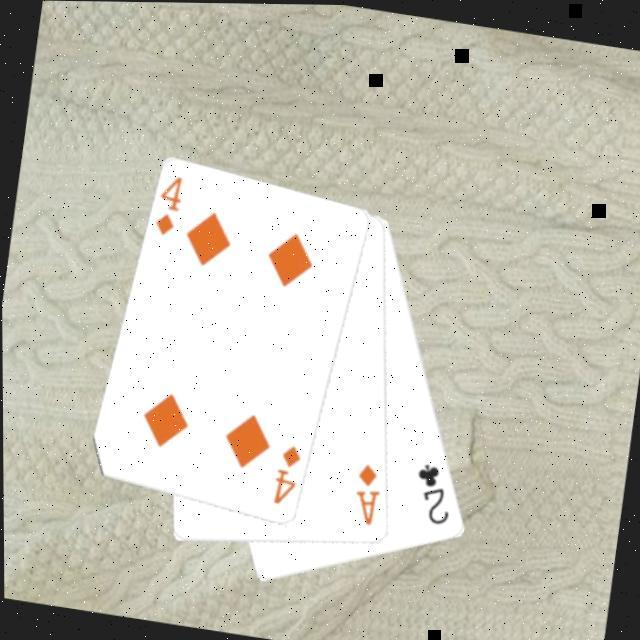2C: (404, 460, 458, 530)
4D: (266, 441, 304, 512), (148, 172, 185, 242)
AD: (346, 460, 384, 530)
